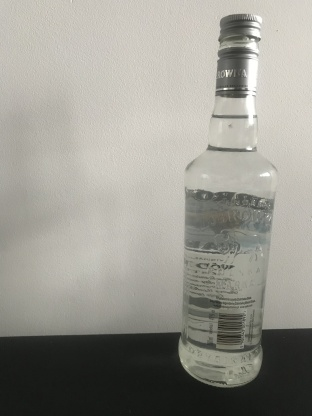nakretka: (214, 10, 263, 97)
